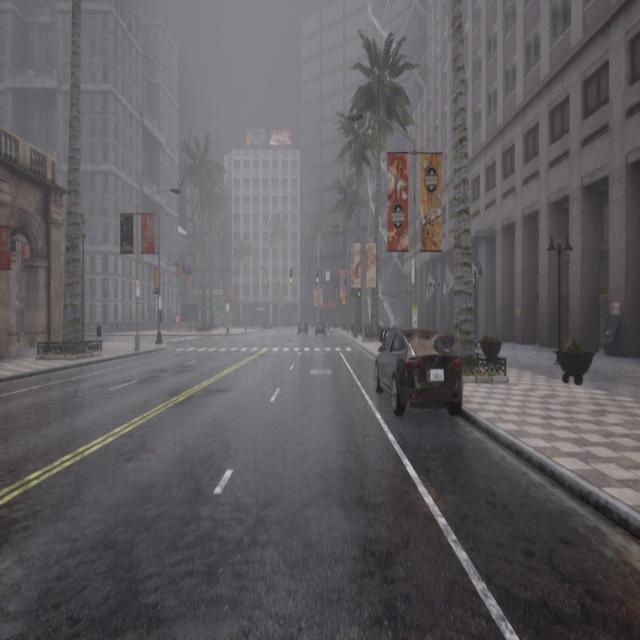bien_chi_dan: (314, 269, 324, 291), (353, 283, 362, 305), (288, 270, 295, 290), (290, 278, 294, 287), (356, 292, 360, 300), (316, 278, 321, 284)
